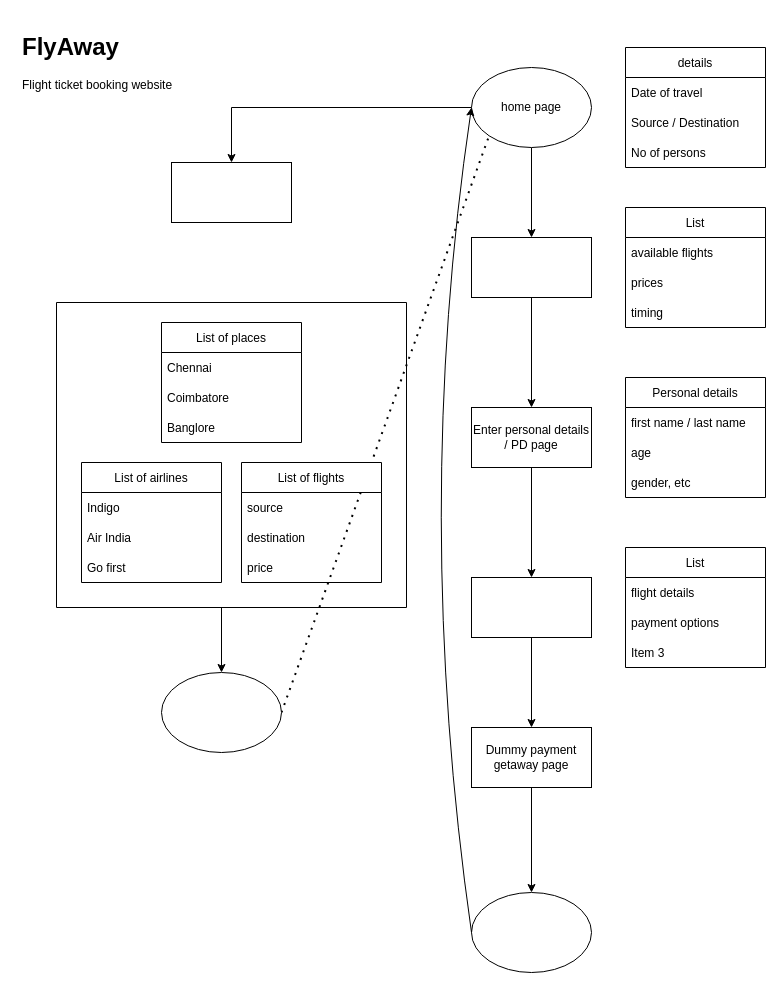
The diagram is 783 pixels wide and 990 high, and some of its shapes have lost their labels. Here are the shapes that lost their labels. From the top down, the centre of each, then its label:
At point 231,192: "admin login page".
At point 531,267: "Enter flight details / flight details page".
At point 531,607: "flight details page".
At point 221,712: "log out".
At point 531,932: "payment confirmation".
